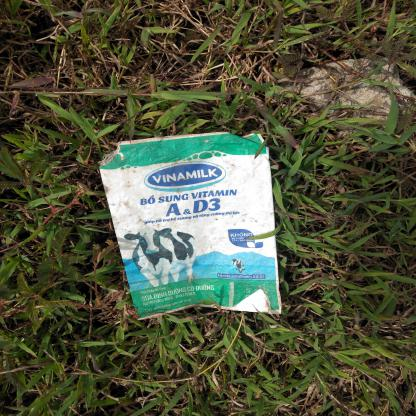Other plastic: (97, 132, 281, 320)
